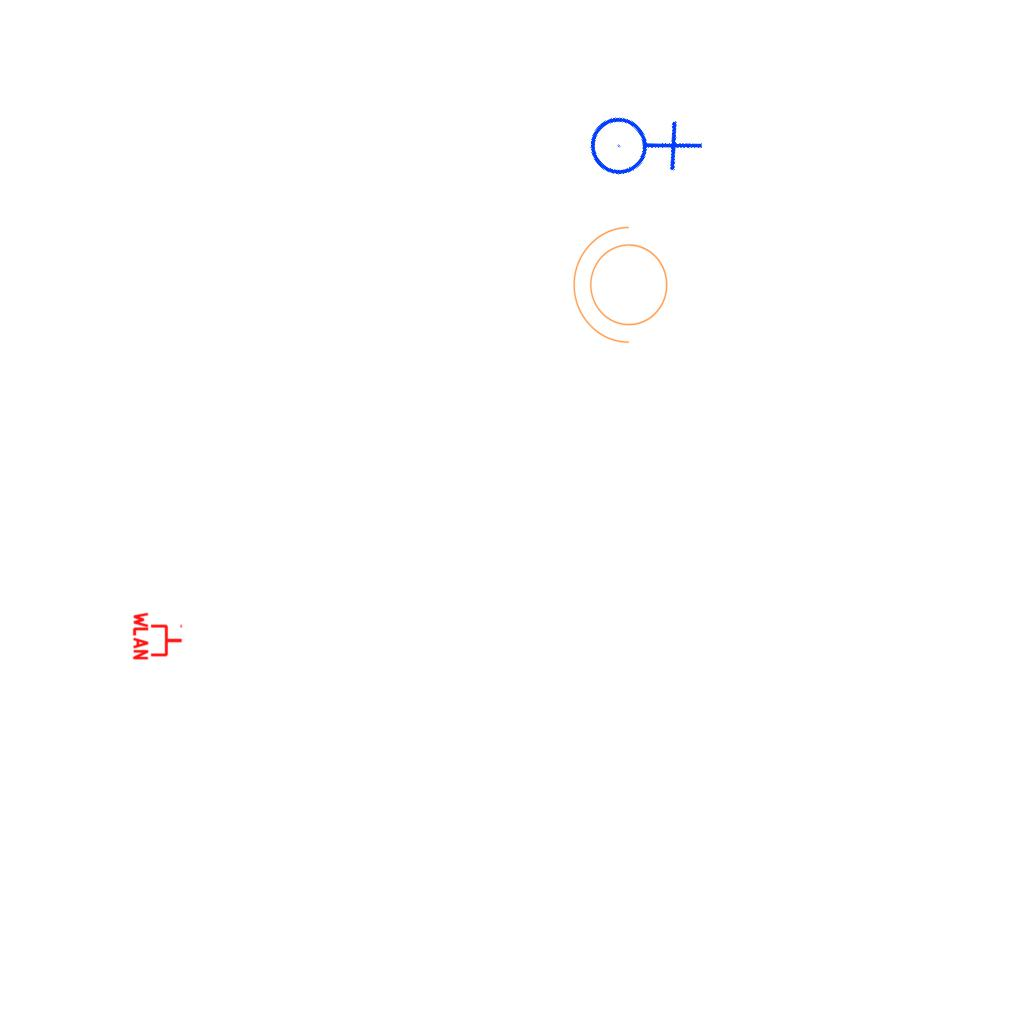Elektroanschluss_allgemein_230V_Geraeteanschlussdose_230V: (571, 73, 708, 211)
Scheinwerfer_fuer_Alarmbeleuchtung: (568, 222, 680, 354)
WLAN: (132, 610, 184, 662)
